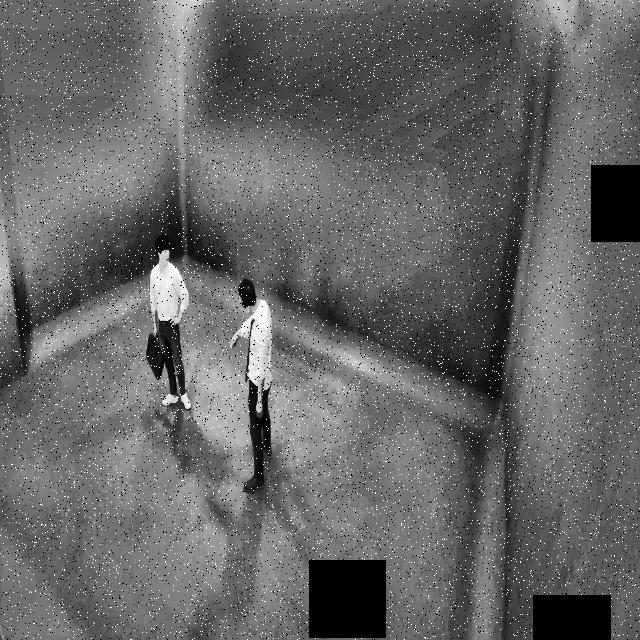assult: (134, 223, 306, 520)
